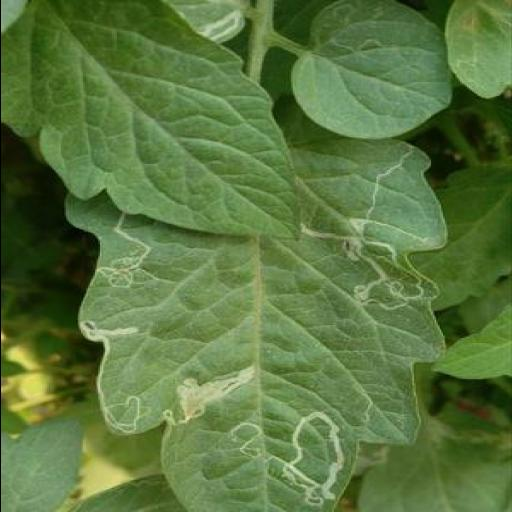Healthy: (0, 0, 304, 239)
Leaf Miner: (64, 136, 448, 512)
